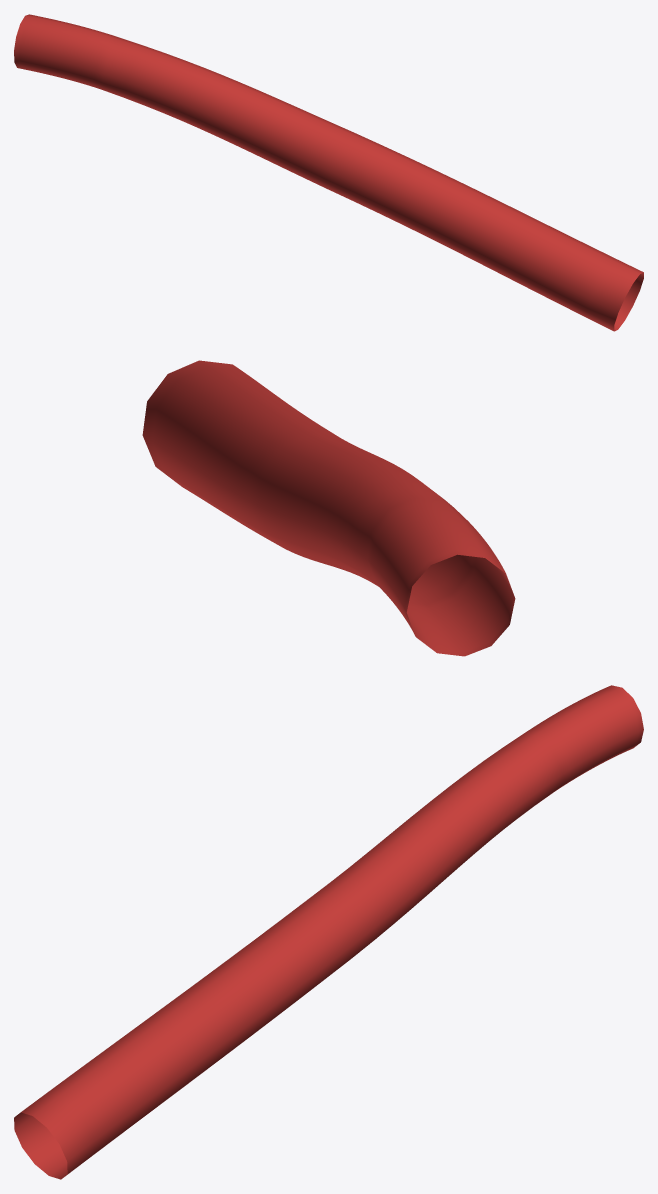
3 renders of one model, top to bottom at view 1: azimuth 30°, elevation 25°; view 2: azimuth 150°, elevation 25°; view 3: azimuth 270°, elevation 25°, orthographic. The views are drawn at different scales.
Parts seen in each view (by area): view 1: 回结肠动脉; view 2: 回结肠动脉; view 3: 回结肠动脉.
Boxes of the visible parts, x1,y1,x2,y2 form: 回结肠动脉: (14, 14, 643, 331); 回结肠动脉: (142, 360, 515, 656); 回结肠动脉: (14, 685, 643, 1179).
Bounding box in the file's own units: 0.0376 × 0.0201 × 0.0415.
